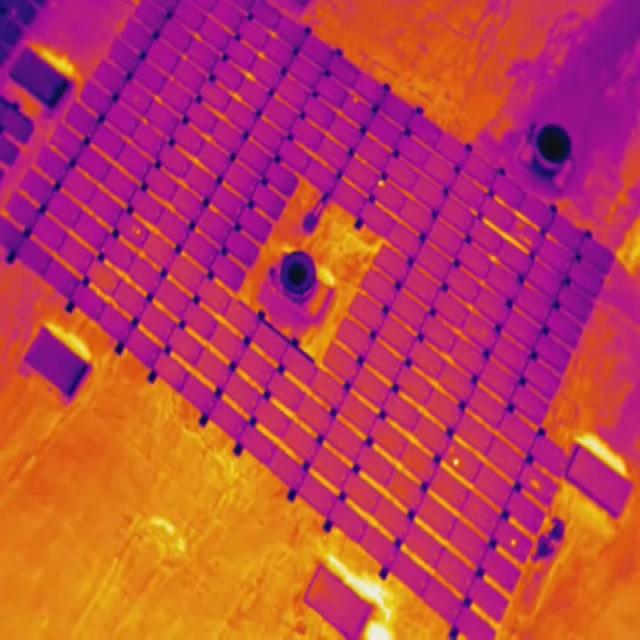Orange-Spots: (530, 478, 540, 489), (132, 225, 141, 236), (452, 457, 460, 468), (524, 237, 532, 246), (517, 222, 524, 230), (378, 180, 385, 187), (449, 447, 455, 454), (511, 539, 517, 546), (353, 98, 359, 103), (519, 233, 523, 240)
